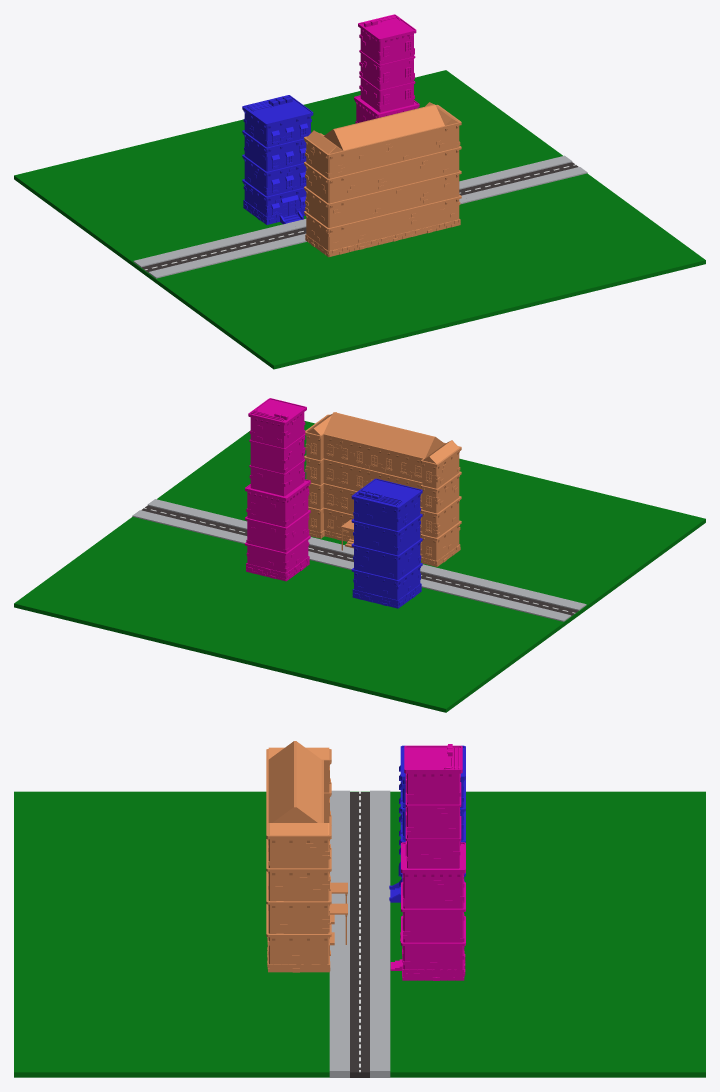
Rendered from cityfixed.gltf.
3 renders of one model, top to bottom at view 1: azimuth 30°, elevation 25°; view 2: azimuth 150°, elevation 25°; view 3: azimuth 270°, elevation 25°, orthographic. The views are drawn at different scales.
Parts seen in each view (by area): view 1: Cube, 4Story_Wide_2Doors_Roof, 4Story, 6Story_Stack, Street_Straight.008, Street_Straight.009, Street_Straight.007, Street_Straight.004, Street_Straight.010, Street_Straight.002, Street_Straight.006; view 2: Cube, 4Story_Wide_2Doors_Roof, 6Story_Stack, 4Story, Street_Straight.008, Street_Straight.004, Street_Straight.007, Street_Straight.009, Street_Straight.010, Street_Straight.002, Street_Straight.003, Street_Straight.006; view 3: Cube, 4Story_Wide_2Doors_Roof, 6Story_Stack, Street_Straight.004, Street_Straight.005, Street_Straight.006, Street_Straight.008, Street_Straight.007, Street_Straight.003, Street_Straight.009, Street_Straight.010, Street_Straight (+3 smaller).
Boxes of the visible parts, <box> form: Cube: <box>14,70,705,369</box>; 4Story_Wide_2Doors_Roof: <box>304,102,461,257</box>; 4Story: <box>242,95,313,224</box>; 6Story_Stack: <box>354,14,419,123</box>; Street_Straight.008: <box>133,251,195,278</box>; Street_Straight.009: <box>173,242,234,268</box>; Street_Straight.007: <box>486,165,548,192</box>; Street_Straight.004: <box>526,155,587,182</box>; Street_Straight.010: <box>212,232,272,259</box>; Street_Straight.002: <box>252,223,306,249</box>; Street_Straight.006: <box>459,175,508,201</box>; Cube: <box>14,421,705,712</box>; 4Story_Wide_2Doors_Roof: <box>304,412,461,566</box>; 6Story_Stack: <box>245,398,310,581</box>; 4Story: <box>351,478,422,608</box>; Street_Straight.008: <box>524,594,586,621</box>; Street_Straight.004: <box>132,499,193,526</box>; Street_Straight.007: <box>171,508,233,535</box>; Street_Straight.009: <box>485,585,546,611</box>; Street_Straight.010: <box>445,576,507,602</box>; Street_Straight.002: <box>420,566,469,593</box>; Street_Straight.003: <box>308,537,349,564</box>; Street_Straight.006: <box>211,518,247,543</box>; Cube: <box>14,791,705,1077</box>; 4Story_Wide_2Doors_Roof: <box>266,741,347,972</box>; 6Story_Stack: <box>390,744,465,980</box>; Street_Straight.004: <box>329,1045,390,1077</box>; Street_Straight.005: <box>329,968,390,995</box>; Street_Straight.006: <box>329,994,390,1021</box>; Street_Straight.008: <box>329,790,390,817</box>; Street_Straight.007: <box>329,1020,390,1046</box>; Street_Straight.003: <box>330,943,390,970</box>; Street_Straight.009: <box>330,816,390,843</box>; Street_Straight.010: <box>330,841,390,868</box>; Street_Straight: <box>331,917,390,944</box>.
Size of the model in its own units: 21.97 by 7.97 by 22.87.
